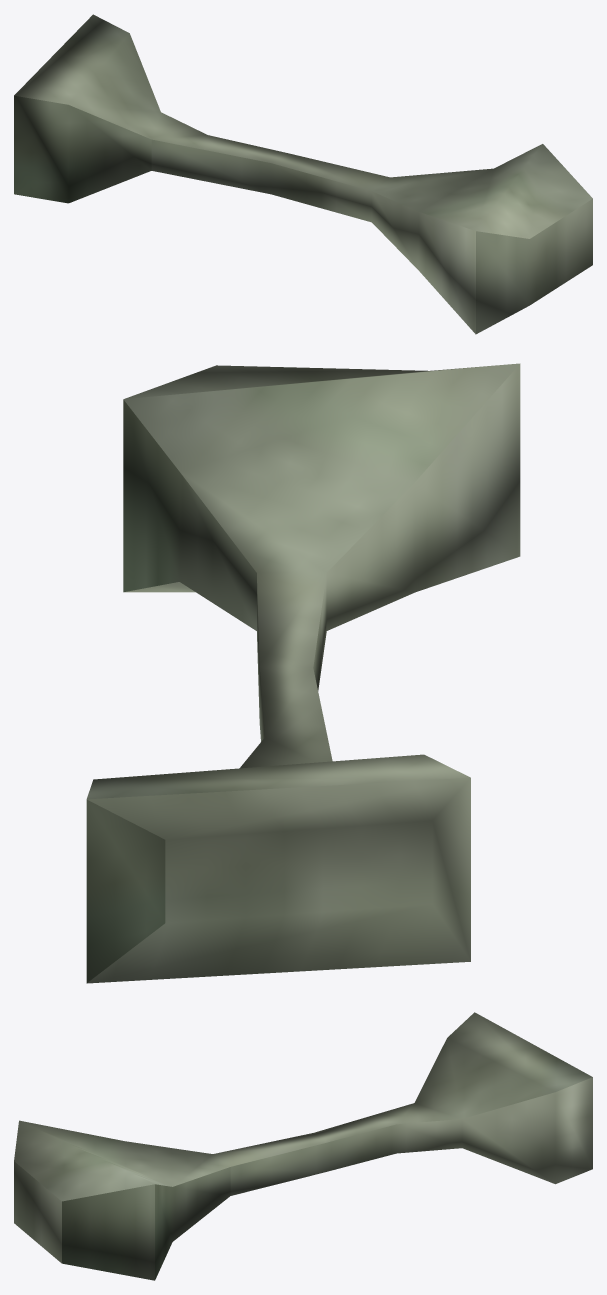
Rendered from lichen-sepel.fbx.
3 renders of one model, top to bottom at view 1: azimuth 30°, elevation 25°; view 2: azimuth 150°, elevation 25°; view 3: azimuth 270°, elevation 25°, orthographic. The views are drawn at different scales.
Parts seen in each view (by area): view 1: lychen_sepel; view 2: lychen_sepel; view 3: lychen_sepel.
Boxes of the visible parts, x1=… form: lychen_sepel: x1=14, y1=14, x2=592, y2=334; lychen_sepel: x1=86, y1=363, x2=520, y2=983; lychen_sepel: x1=14, y1=1012, x2=592, y2=1280.
Bounding box in the file's own units: 4.7 × 1.42 × 7.07.
